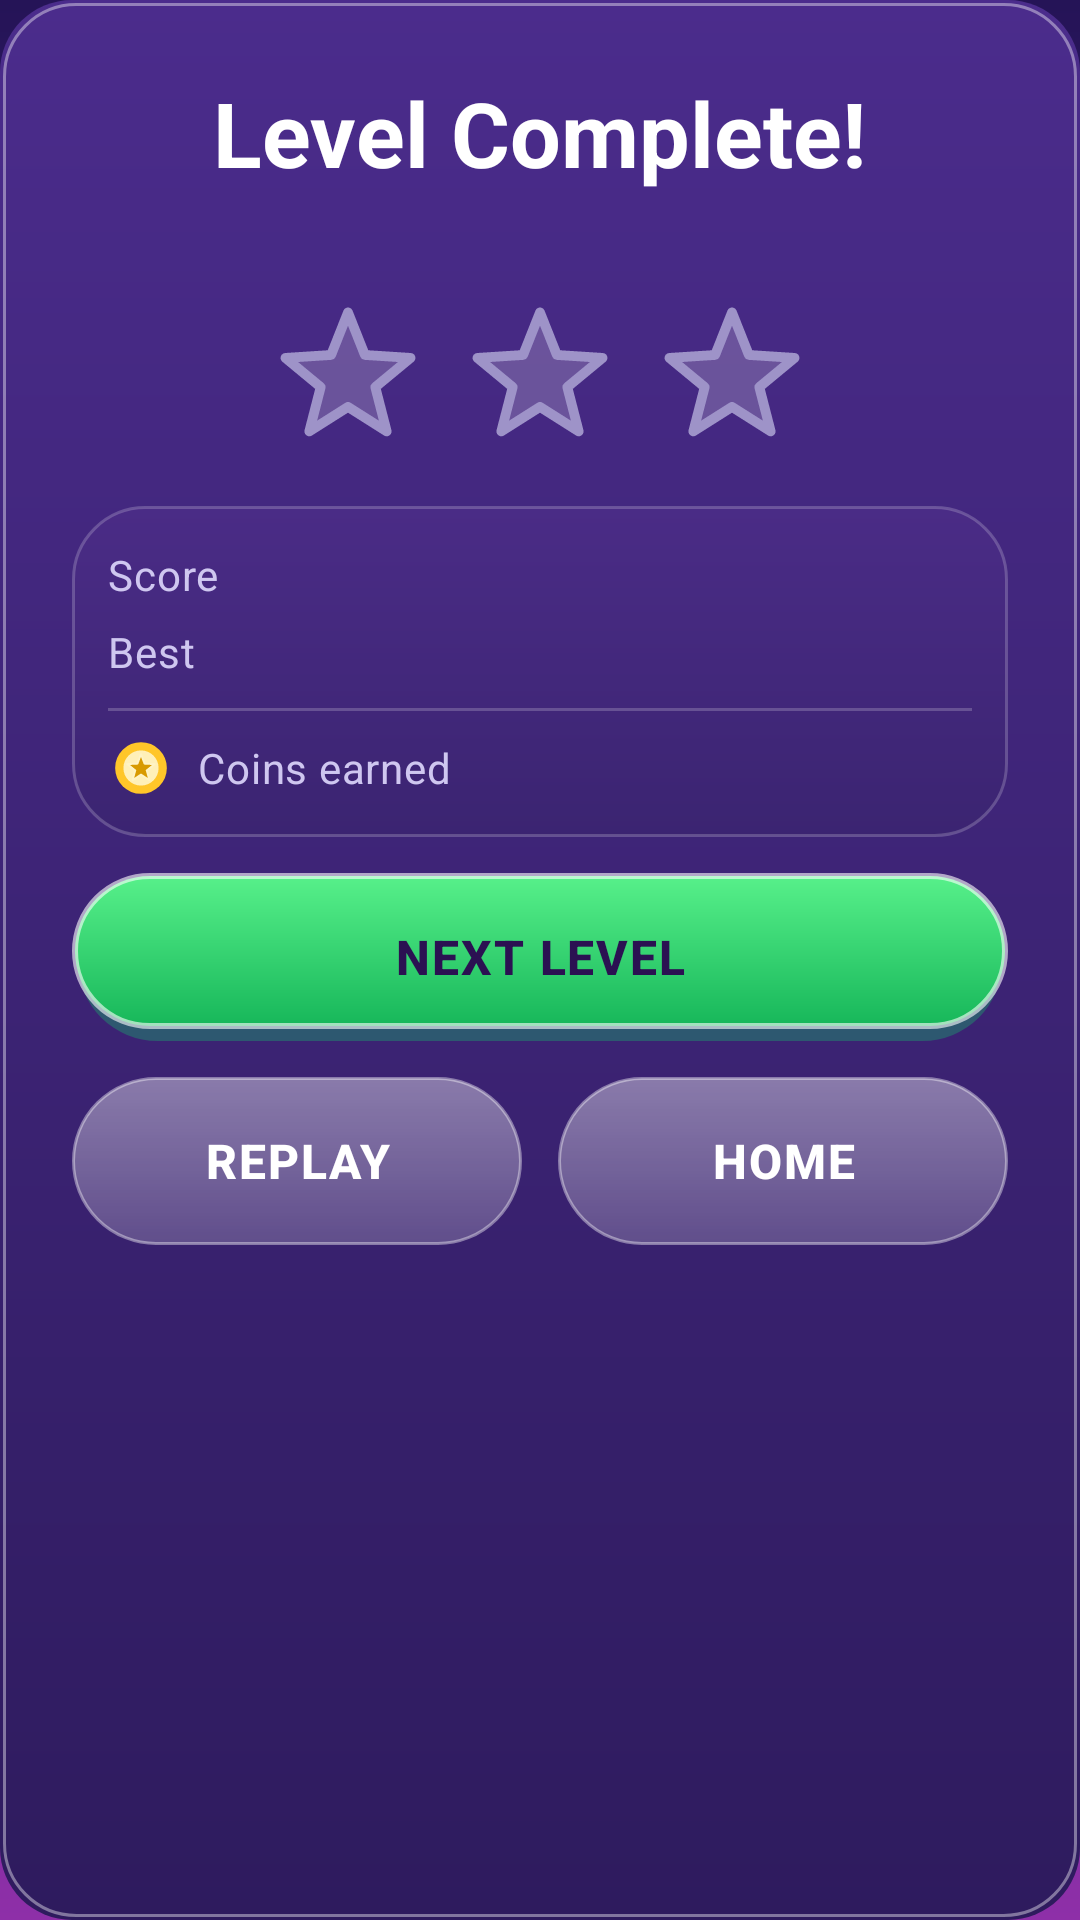

Locate icon controls on the screen. Image size 1080px x 1920px, boxes as [x1=x1, y1=y1, x2=x2, y2=y2].
Star not earned: [x1=280, y1=307, x2=416, y2=437], [x1=472, y1=307, x2=608, y2=437], [x1=664, y1=307, x2=800, y2=437]
